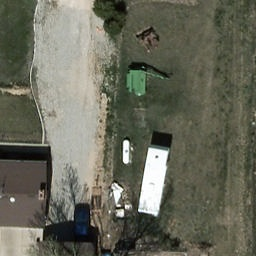camping car: (137, 147, 168, 218)
car: (73, 204, 92, 240)
